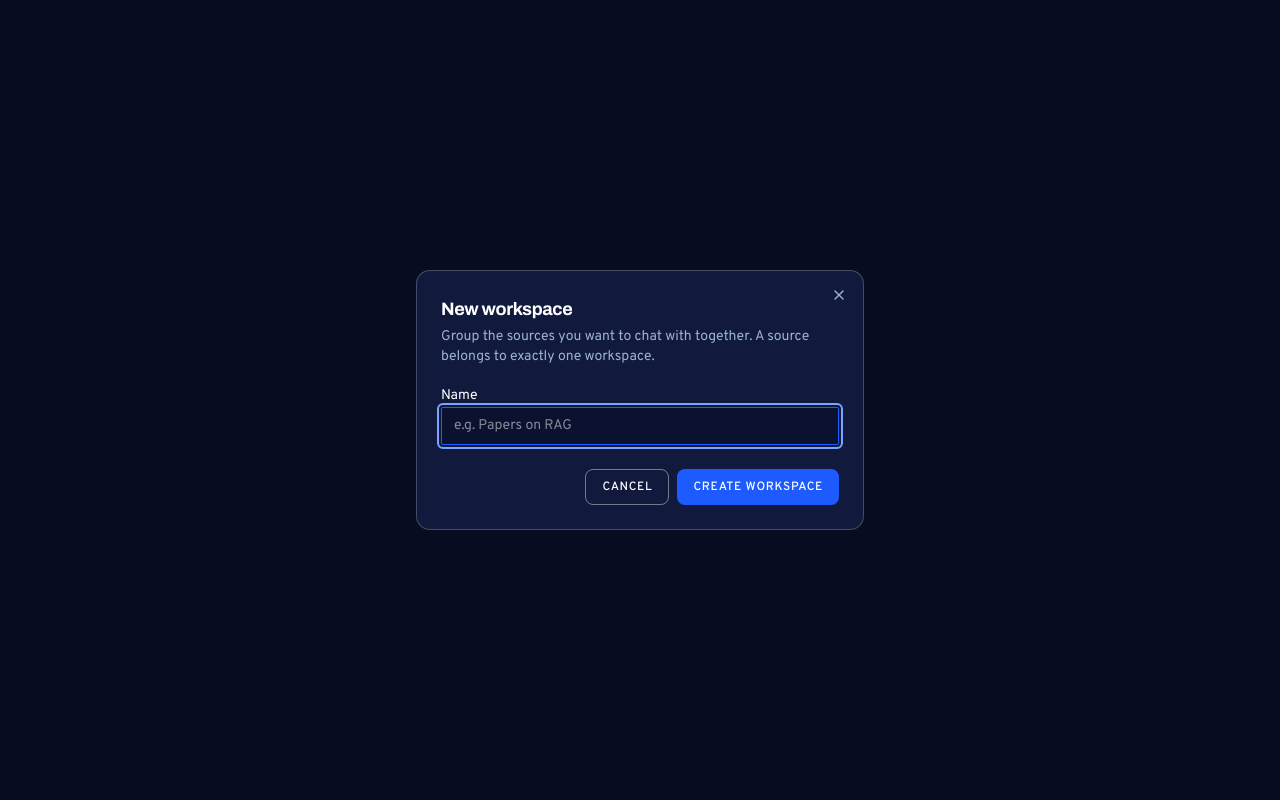
NewWorkspaceDialog › renders CONFLICT inline on the name field, not as a toast
Type "Existing" into the field labelled "Name".
click(640, 426); type("Existing")  # box [441,407,839,445]
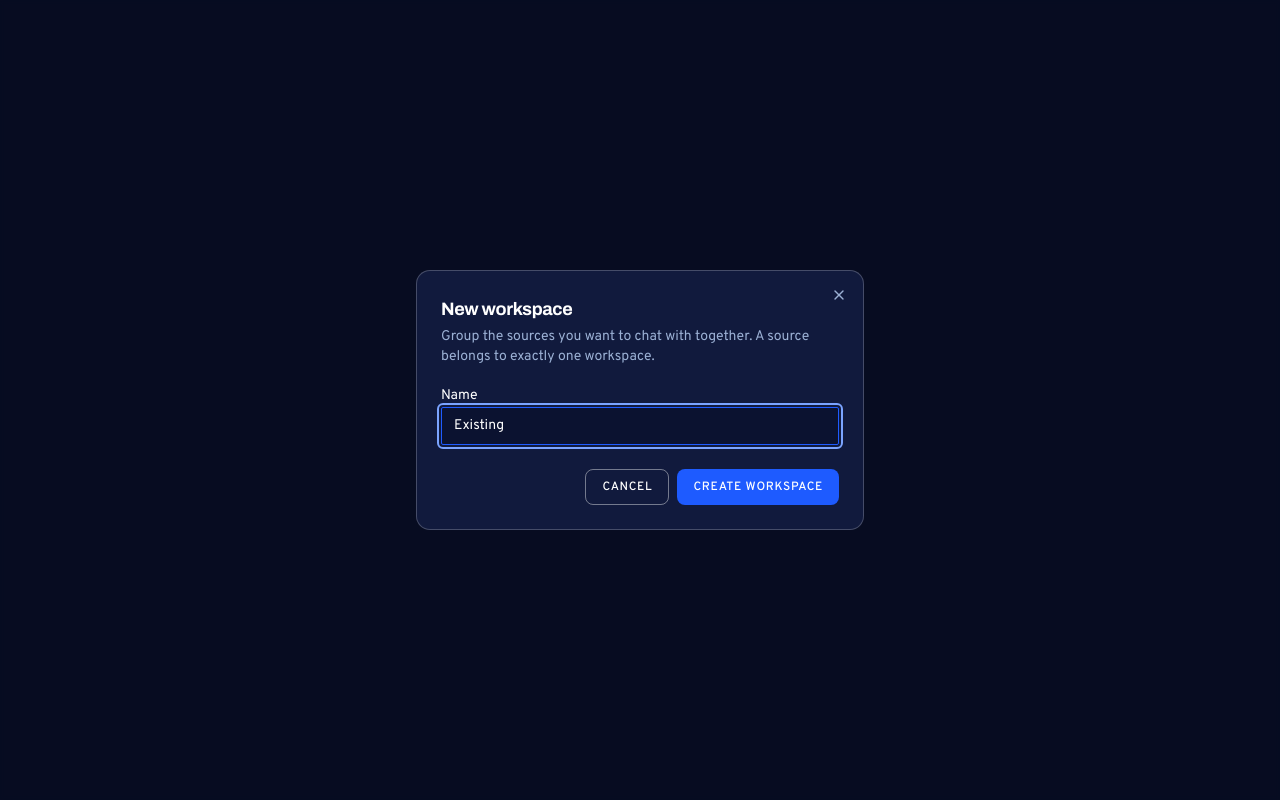
Click the button "Create workspace".
click(758, 487)  # box [678,469,839,505]
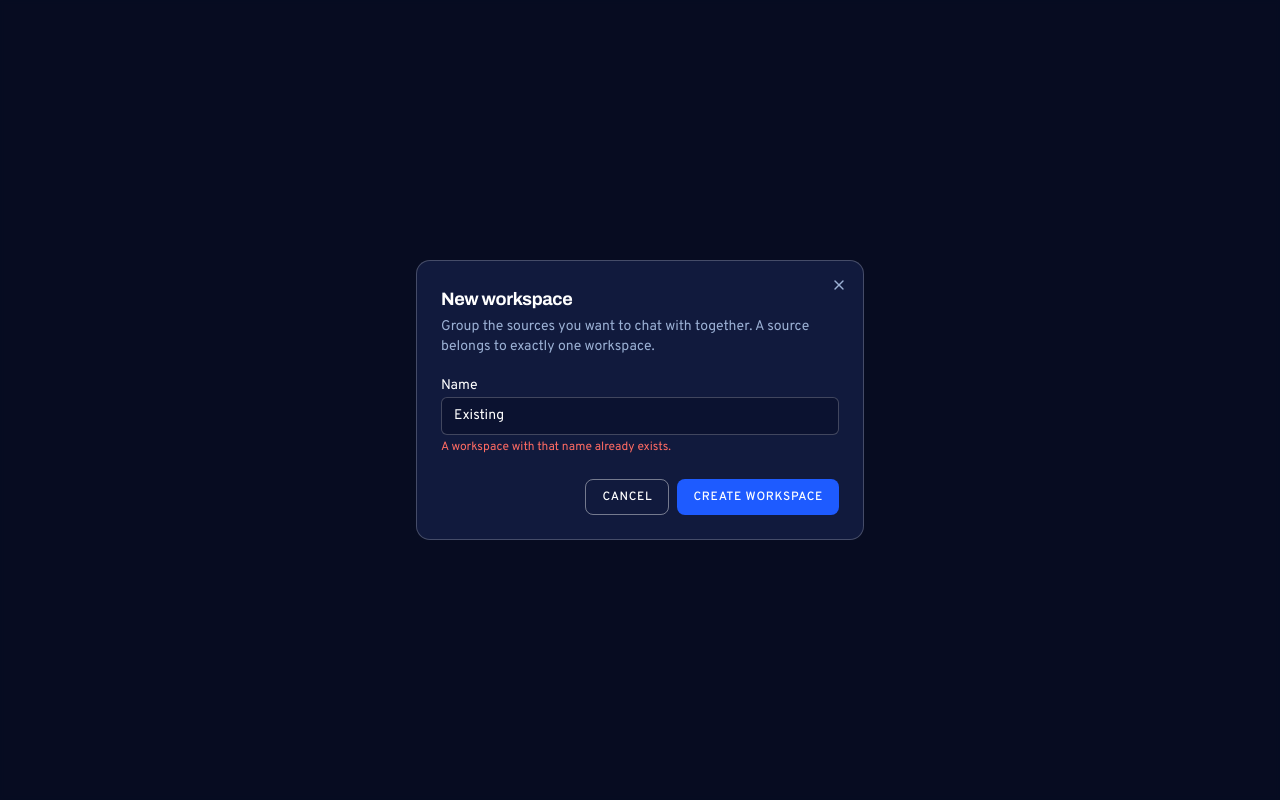
Result: the message shows "already exists" at [441,439,671,455]
